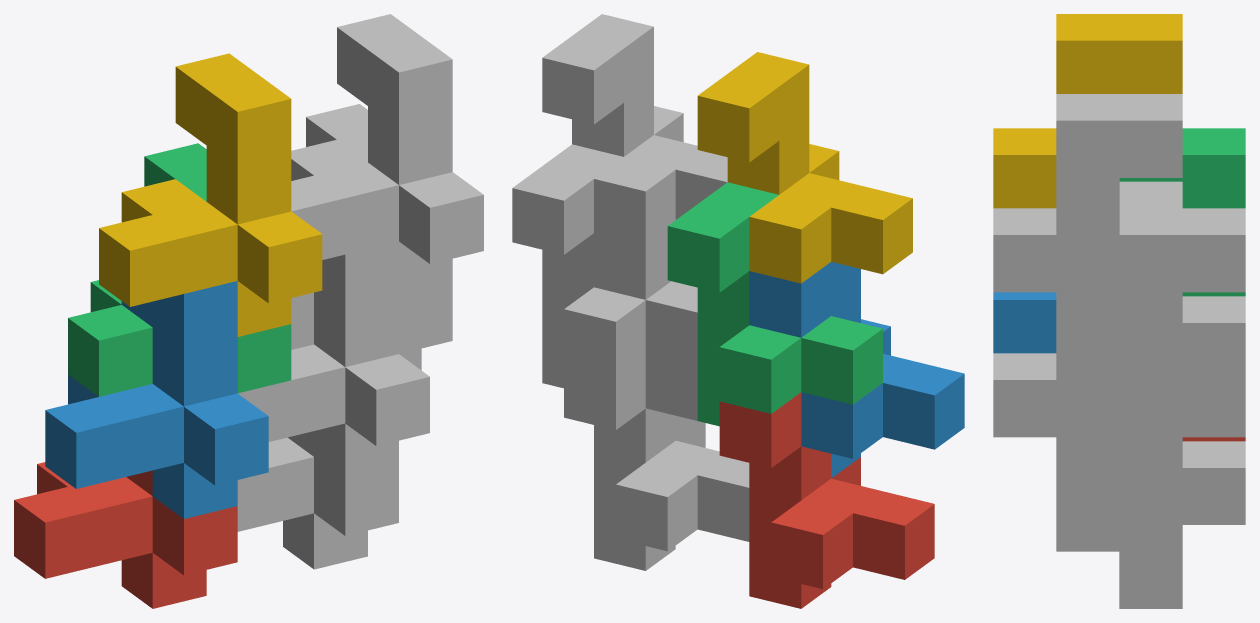
Rendered from tiling.obj.
The picture shows the model from 3 angles, left to right: view 1: azimuth 30°, elevation 25°; view 2: azimuth 150°, elevation 25°; view 3: azimuth 270°, elevation 25°; orthographic projection. The views are drawn at different scales.
Visible parts, largest first — view 1: copy_1_domain_4, copy_1_domain_8, copy_1_domain_2, copy_1_domain_6, copy_1_domain_1, copy_1_domain_5, copy_1_domain_3, copy_1_domain_7; view 2: copy_1_domain_4, copy_1_domain_1, copy_1_domain_3, copy_1_domain_8, copy_1_domain_5, copy_1_domain_7, copy_1_domain_2, copy_1_domain_6; view 3: copy_1_domain_7, copy_1_domain_8, copy_1_domain_5, copy_1_domain_4, copy_1_domain_6, copy_1_domain_3, copy_1_domain_2.
Boxes of the visible parts, bbox=[...] form: copy_1_domain_4: bbox=[99, 53, 322, 336]; copy_1_domain_8: bbox=[291, 14, 483, 297]; copy_1_domain_2: bbox=[45, 281, 268, 518]; copy_1_domain_6: bbox=[238, 241, 429, 479]; copy_1_domain_1: bbox=[14, 462, 237, 608]; copy_1_domain_5: bbox=[237, 431, 398, 569]; copy_1_domain_3: bbox=[68, 143, 291, 396]; copy_1_domain_7: bbox=[291, 104, 452, 370]; copy_1_domain_4: bbox=[697, 52, 912, 283]; copy_1_domain_1: bbox=[719, 392, 934, 608]; copy_1_domain_3: bbox=[667, 182, 882, 426]; copy_1_domain_8: bbox=[542, 14, 727, 245]; copy_1_domain_5: bbox=[564, 354, 749, 570]; copy_1_domain_7: bbox=[512, 144, 697, 388]; copy_1_domain_2: bbox=[749, 262, 964, 478]; copy_1_domain_6: bbox=[594, 230, 700, 440]; copy_1_domain_7: bbox=[1056, 208, 1245, 463]; copy_1_domain_8: bbox=[993, 94, 1182, 349]; copy_1_domain_5: bbox=[1056, 380, 1245, 608]; copy_1_domain_4: bbox=[993, 14, 1182, 208]; copy_1_domain_6: bbox=[993, 353, 1119, 494]; copy_1_domain_3: bbox=[1119, 128, 1245, 296]; copy_1_domain_2: bbox=[993, 292, 1056, 353].
Bounding box in the file's own units: 7 × 9 × 4.
